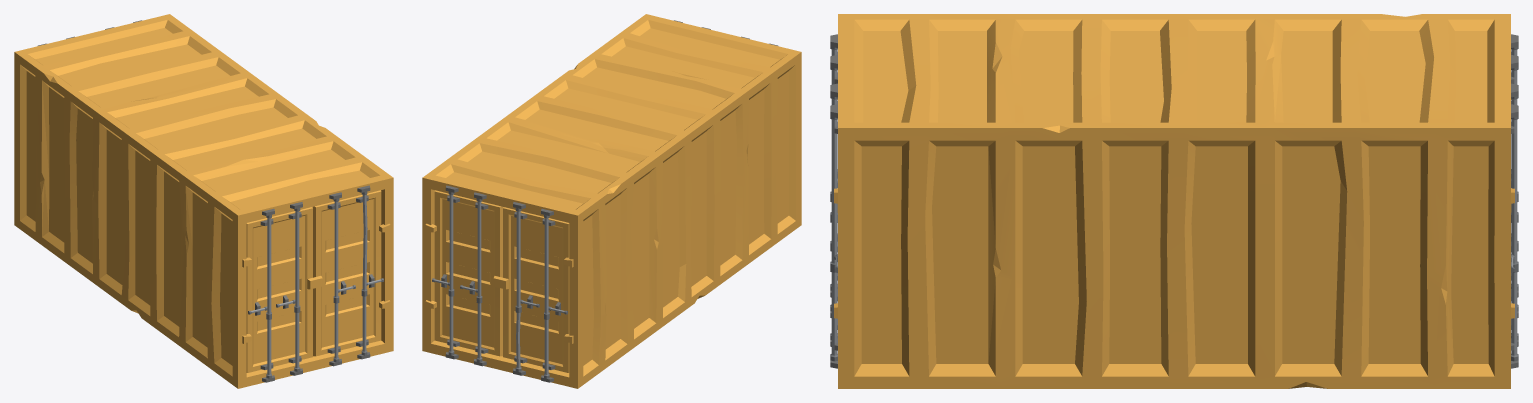
The model's file is CapsuleContainer.glb.
3 renders of one model, left to right at view 1: azimuth 30°, elevation 25°; view 2: azimuth 150°, elevation 25°; view 3: azimuth 270°, elevation 25°, orthographic. The views are drawn at different scales.
Visible parts, largest first — view 1: SM_Prop_Container_01__16_, SM_Prop_Container_Door_02_22, SM_Prop_Container_Door_01_22; view 2: SM_Prop_Container_01__16_, SM_Prop_Container_Door_03_22, SM_Prop_Container_Door_04_22; view 3: SM_Prop_Container_01__16_, SM_Prop_Container_Door_02_22, SM_Prop_Container_Door_03_22.
Boxes of the visible parts, x1,y1,x2,y2 form: SM_Prop_Container_01__16_: [14, 14, 393, 388]; SM_Prop_Container_Door_02_22: [307, 190, 383, 362]; SM_Prop_Container_Door_01_22: [246, 207, 312, 378]; SM_Prop_Container_01__16_: [422, 14, 801, 388]; SM_Prop_Container_Door_03_22: [432, 190, 503, 362]; SM_Prop_Container_Door_04_22: [493, 207, 569, 378]; SM_Prop_Container_01__16_: [830, 14, 1518, 388]; SM_Prop_Container_Door_02_22: [830, 96, 837, 361]; SM_Prop_Container_Door_03_22: [1511, 96, 1518, 361].
Bounding box in the file's own units: 2.45 × 2.61 × 6.19.
1 material, 1 textured.
